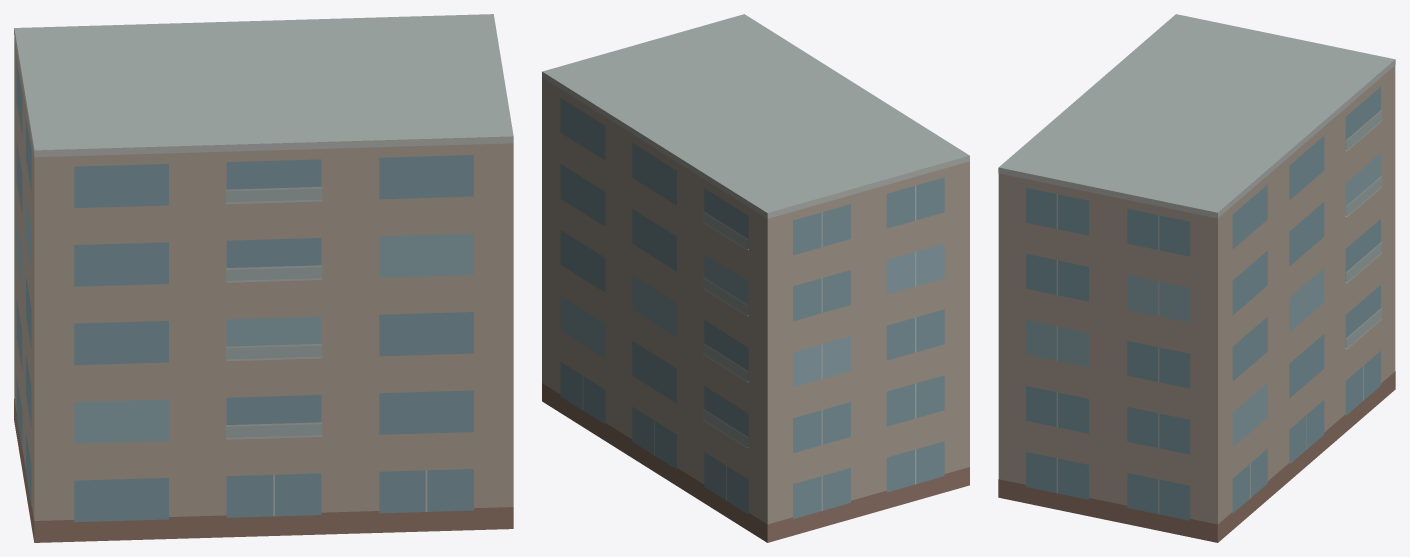
File: survey-upis-33044624.glb
3 renders of one model, left to right at view 1: azimuth 30°, elevation 25°; view 2: azimuth 150°, elevation 25°; view 3: azimuth 270°, elevation 25°, orthographic. The views are drawn at different scales.
Visible parts, largest first — view 1: survey-upis-33044624.tmp; view 2: survey-upis-33044624.tmp; view 3: survey-upis-33044624.tmp.
Part boxes in pixels (x1=…): survey-upis-33044624.tmp: x1=14, y1=14, x2=513, y2=542; survey-upis-33044624.tmp: x1=542, y1=14, x2=969, y2=542; survey-upis-33044624.tmp: x1=998, y1=14, x2=1395, y2=542.
Size of the model in its own units: 17.95 by 13.9 by 15.15.
